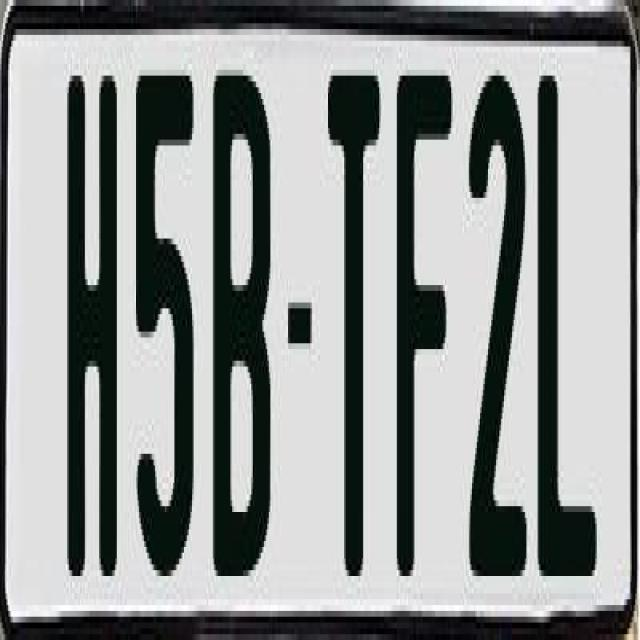2: (464, 58, 522, 594)
5: (133, 64, 195, 576)
B: (210, 76, 271, 582)
F: (392, 76, 451, 576)
H: (63, 64, 122, 564)
L: (536, 59, 598, 565)
T: (323, 76, 381, 576)
